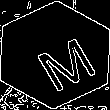M_NW: (18, 22, 92, 88)
